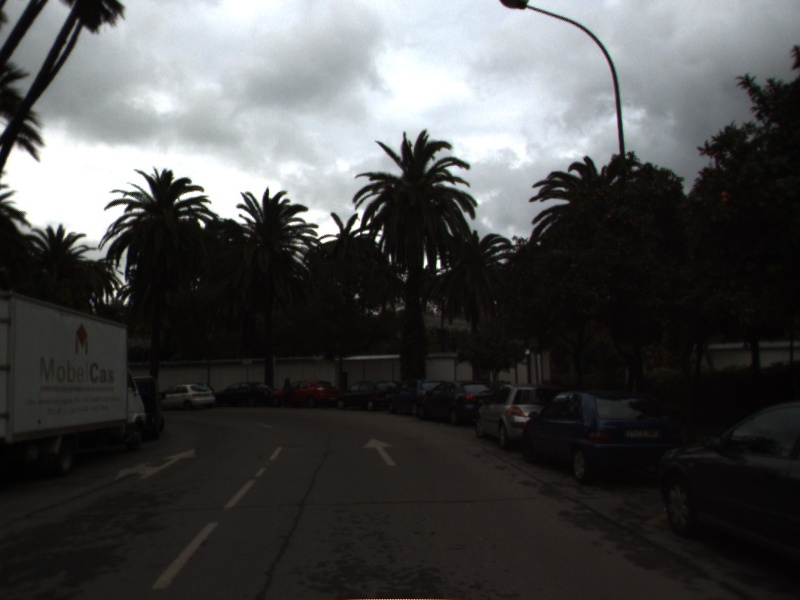STRAIGHT: (361, 435, 398, 467)
STRAIGHT_LEFT: (112, 446, 198, 483)
